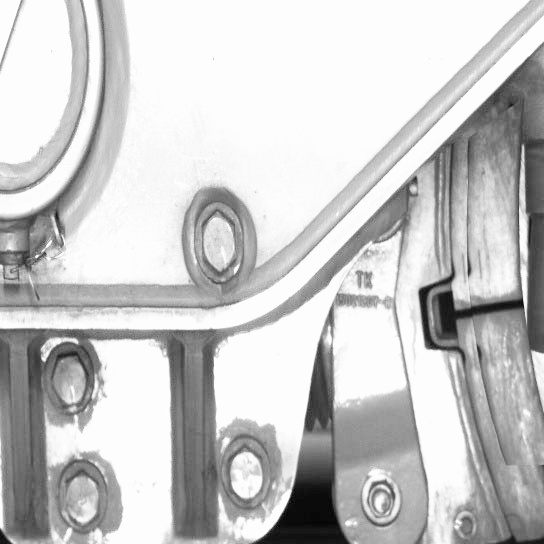ClosedKnifeSwitch: (450, 136, 542, 541)
